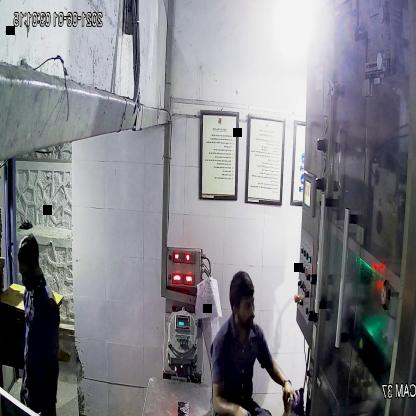no_goggles: (228, 296, 258, 317)
